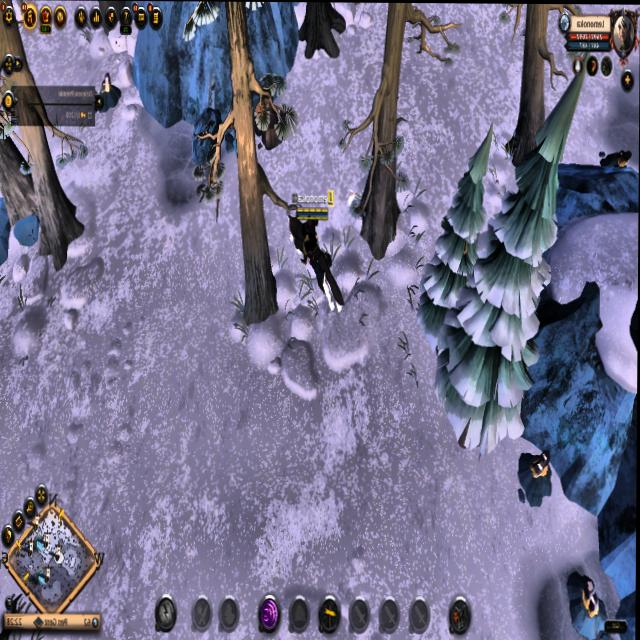ore tier 2: (567, 570, 606, 640), (515, 447, 555, 509)
